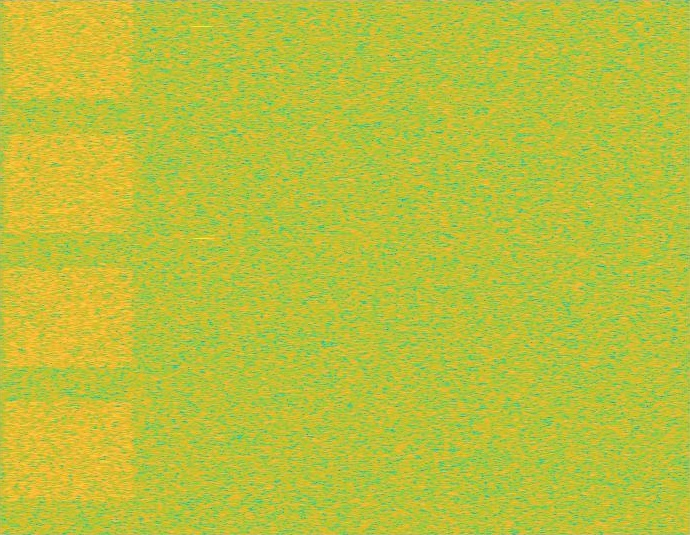5G: (0, 0, 138, 534)
Radar: (196, 0, 209, 534)
